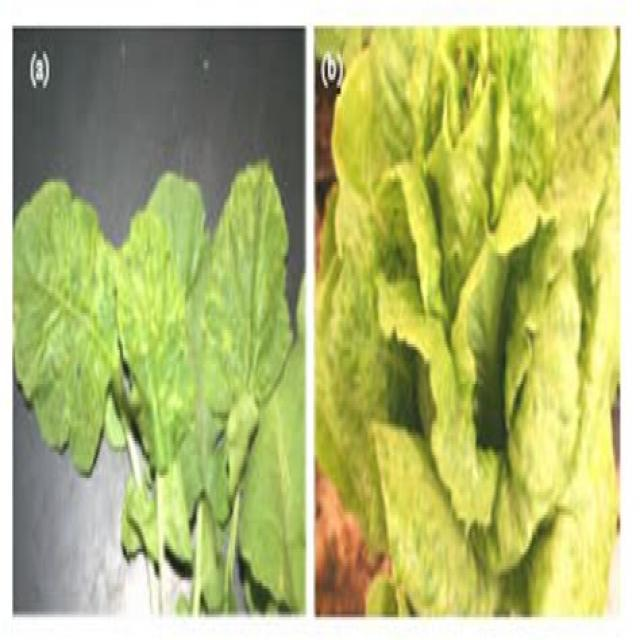Lettuce: (319, 27, 624, 619), (22, 168, 296, 604)
